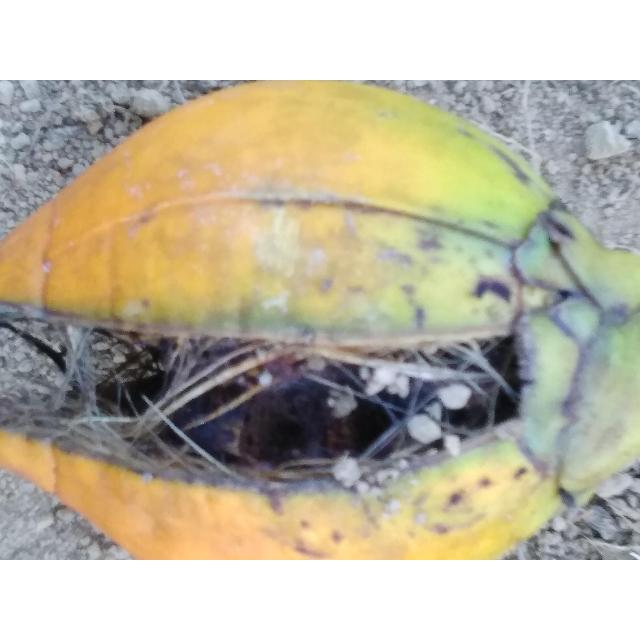damaged: (0, 80, 640, 560)
